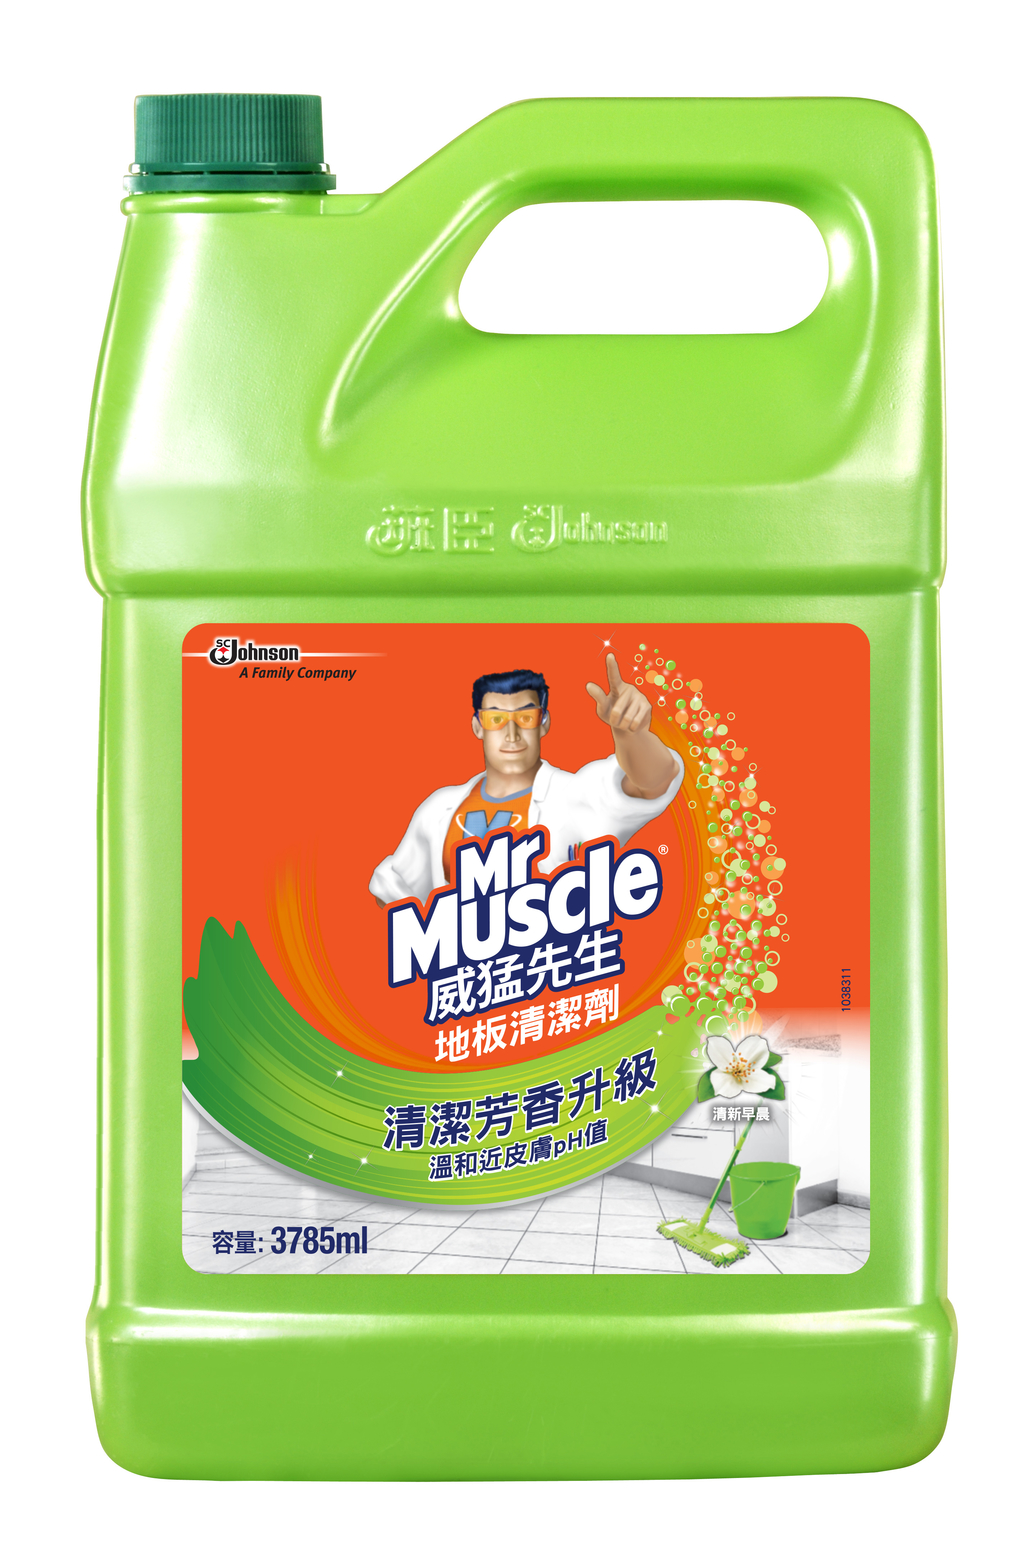cleaner: (77, 77, 965, 1483)
